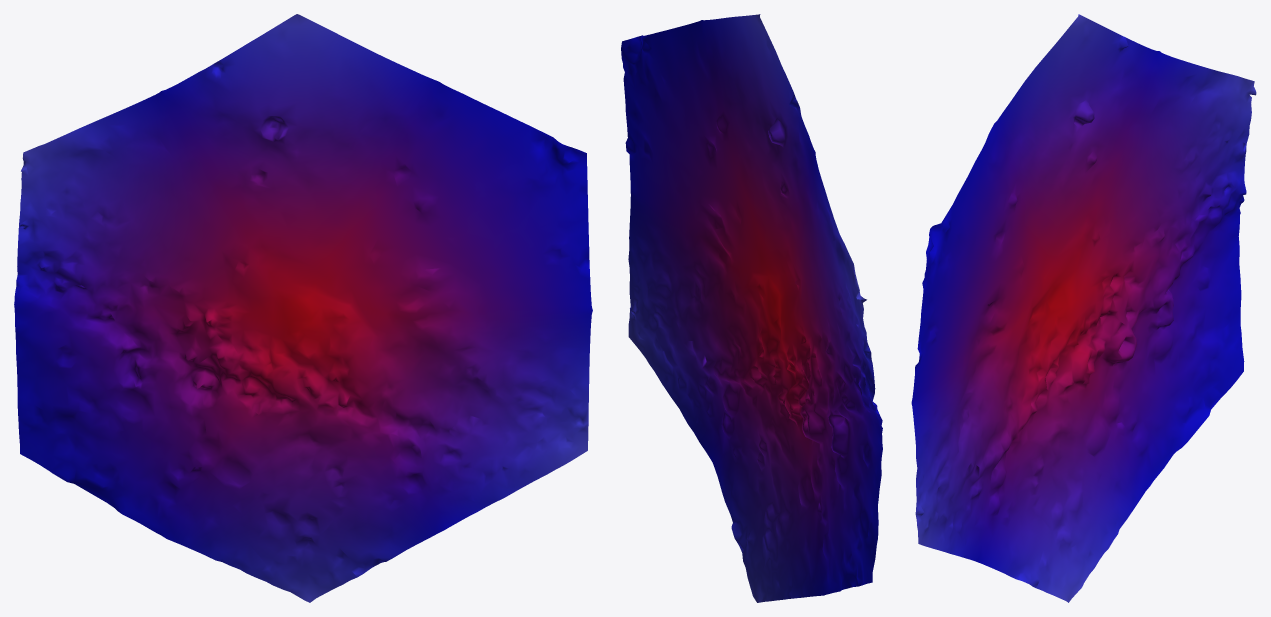
Rendered from Hex_23.fbx.
3 renders of one model, left to right at view 1: azimuth 30°, elevation 25°; view 2: azimuth 150°, elevation 25°; view 3: azimuth 270°, elevation 25°, orthographic.
Visible parts, largest first — view 1: Hex_23; view 2: Hex_23; view 3: Hex_23.
Part boxes in pixels (x1,y1,x2,y2): Hex_23: (14, 14, 592, 602); Hex_23: (621, 14, 882, 602); Hex_23: (911, 14, 1256, 602).
Bounding box in the file's own units: 378 × 510 × 272.
